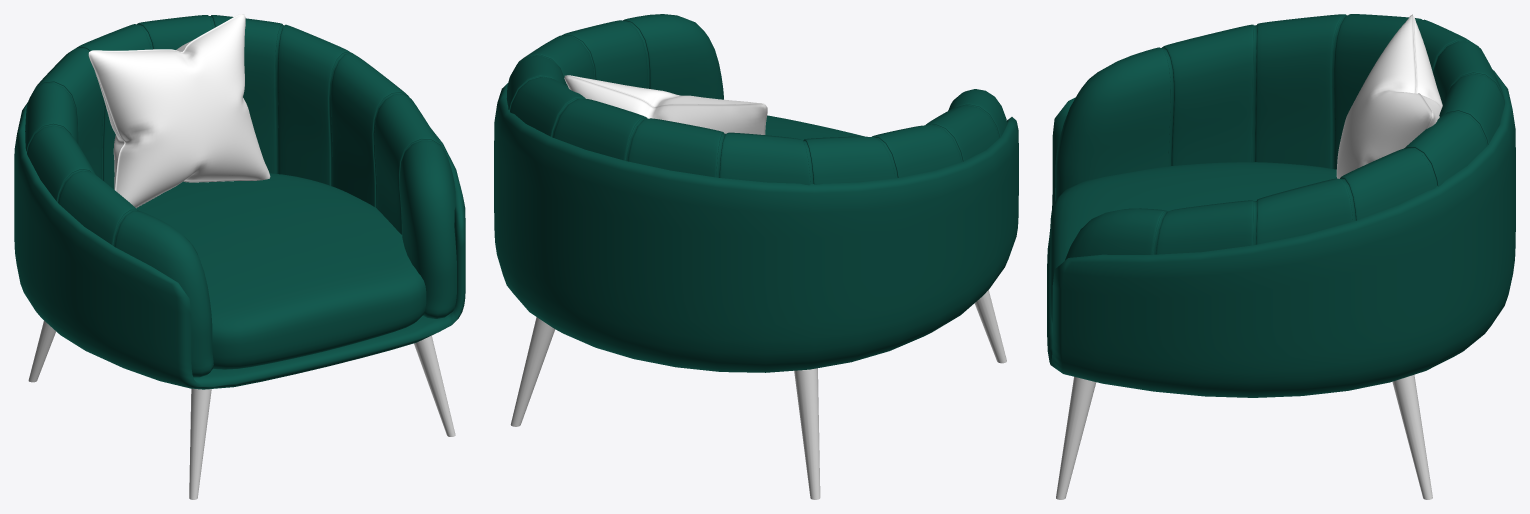
File: VELA.glb
3 views of the same model, side by side, from view 1: azimuth 30°, elevation 25°; view 2: azimuth 150°, elevation 25°; view 3: azimuth 270°, elevation 25° (orthographic). The views are drawn at different scales.
Visible parts, largest first — view 1: Cube.001_3, Cube.002_4, Cube_2, Plane_6, Cylinder_5; view 2: Cube_2, Cube.001_3, Plane_6, Cylinder_5, Cube.002_4; view 3: Cube_2, Cube.001_3, Cube.002_4, Plane_6, Cylinder_5.
Part boxes in pixels (<box>): Cube.001_3: <box>25,15,456,377</box>; Cube.002_4: <box>136,173,426,369</box>; Cube_2: <box>14,102,465,389</box>; Plane_6: <box>88,14,270,208</box>; Cylinder_5: <box>28,320,455,499</box>; Cube_2: <box>494,83,1018,372</box>; Cube.001_3: <box>506,14,1007,185</box>; Plane_6: <box>564,75,767,134</box>; Cylinder_5: <box>510,290,1006,499</box>; Cube.002_4: <box>765,115,864,140</box>; Cube_2: <box>1047,69,1515,397</box>; Cube.001_3: <box>1055,14,1504,260</box>; Cube.002_4: <box>1050,162,1336,322</box>; Plane_6: <box>1336,14,1442,178</box>; Cylinder_5: <box>1056,375,1432,499</box>.
Size of the model in its own units: 0.9302 by 0.7624 by 0.8807.
